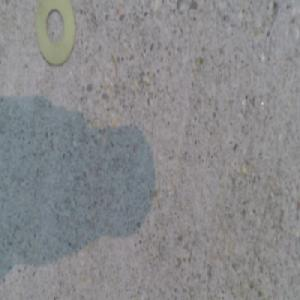Washer: (36, 0, 74, 66)
